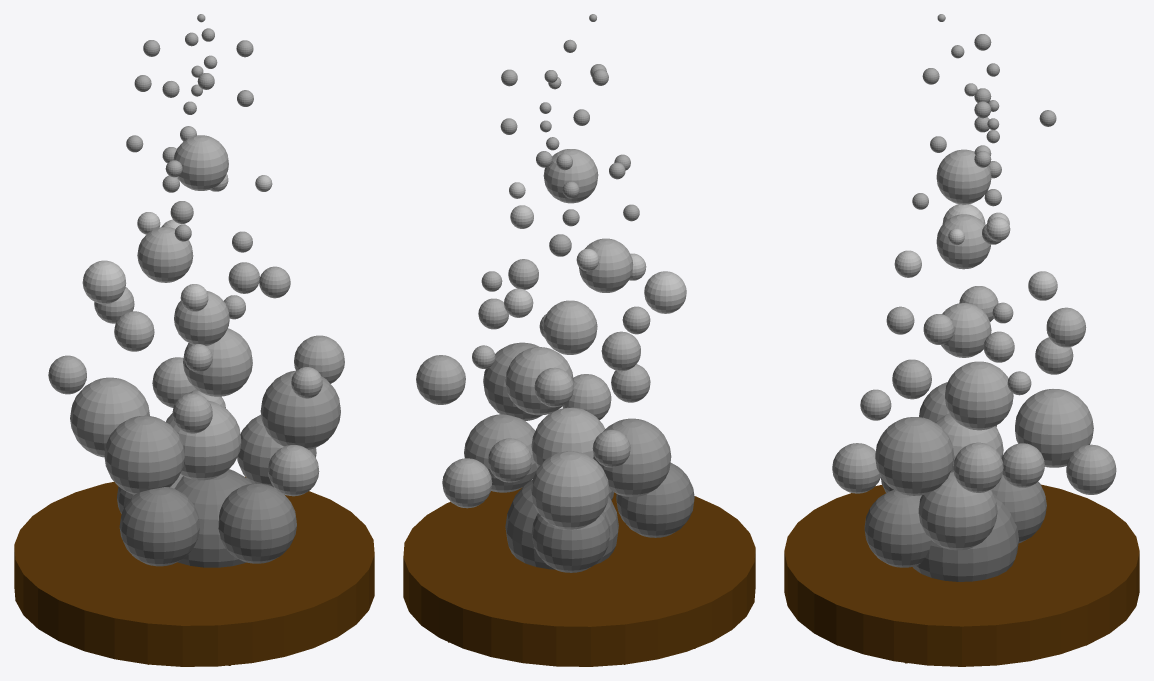
Rendered from smoke.fbx.
3 views of the same model, side by side, from view 1: azimuth 30°, elevation 25°; view 2: azimuth 150°, elevation 25°; view 3: azimuth 270°, elevation 25° (orthographic). The views are drawn at different scales.
Parts seen in each view (by area): view 1: Sphere.052; view 2: Sphere.052; view 3: Sphere.052.
Boxes of the visible parts, x1,y1,x2,y2 form: Sphere.052: (14,14,374,666); Sphere.052: (403,14,755,666); Sphere.052: (784,14,1139,666).
Bounding box in the file's own units: 42.56 × 76.17 × 42.56.
